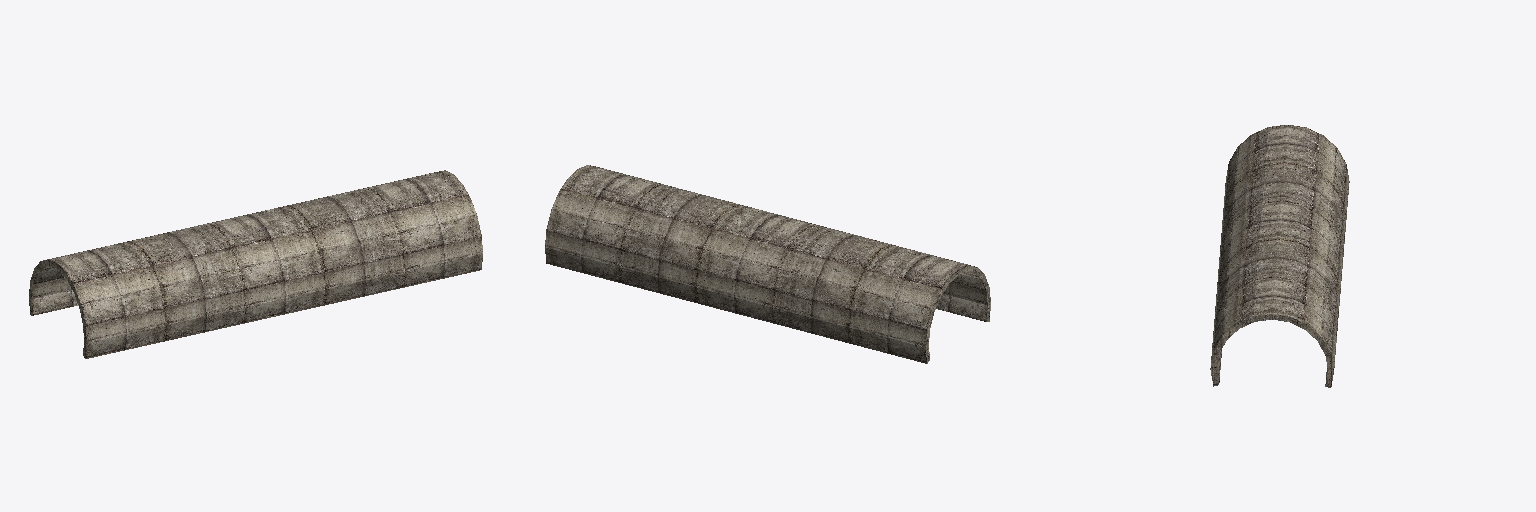
3 renders of one model, left to right at view 1: azimuth 30°, elevation 25°; view 2: azimuth 150°, elevation 25°; view 3: azimuth 270°, elevation 25°, orthographic.
Visible parts, largest first — view 1: pPipe1_Mesh; view 2: pPipe1_Mesh; view 3: pPipe1_Mesh.
Part boxes in pixels (left/top/right/bottom): pPipe1_Mesh: left=29, top=170, right=482, bottom=358; pPipe1_Mesh: left=545, top=165, right=990, bottom=363; pPipe1_Mesh: left=1210, top=125, right=1349, bottom=387.
Bounding box in the file's own units: 3.63 × 0.6499 × 1.12.
Materials: 1 (1 with a texture image).